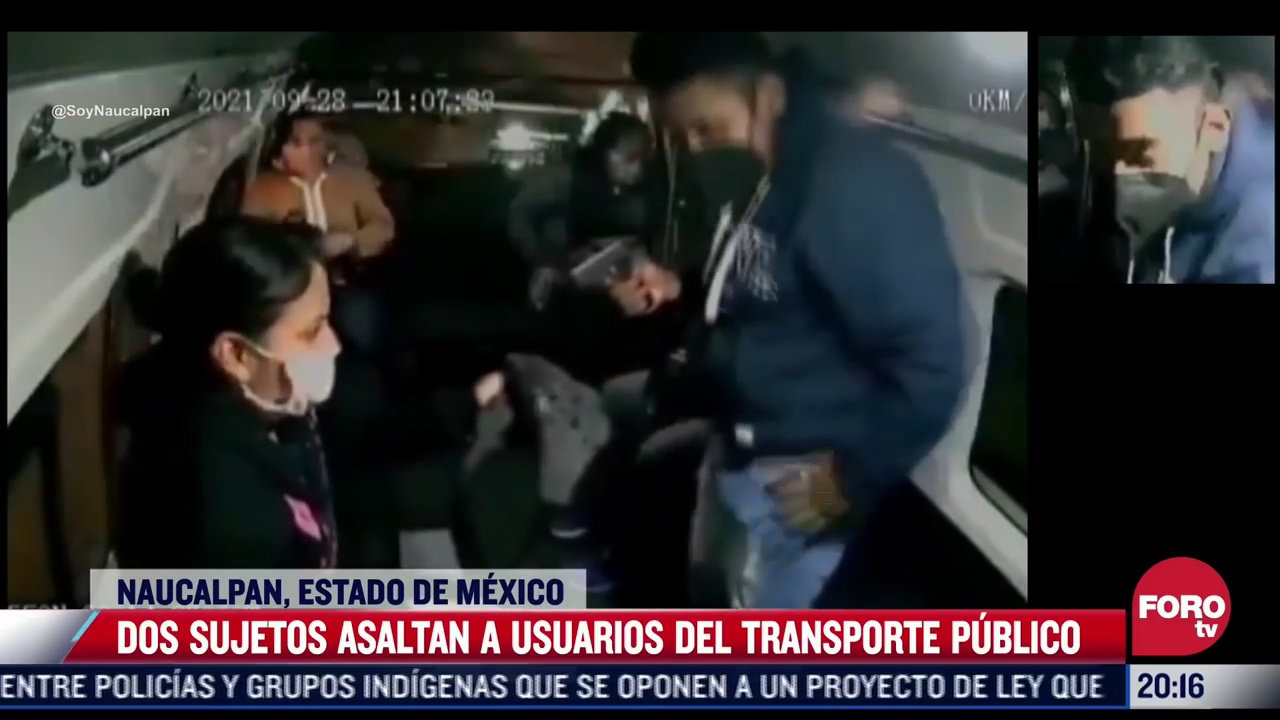pistol: (568, 237, 658, 310)
